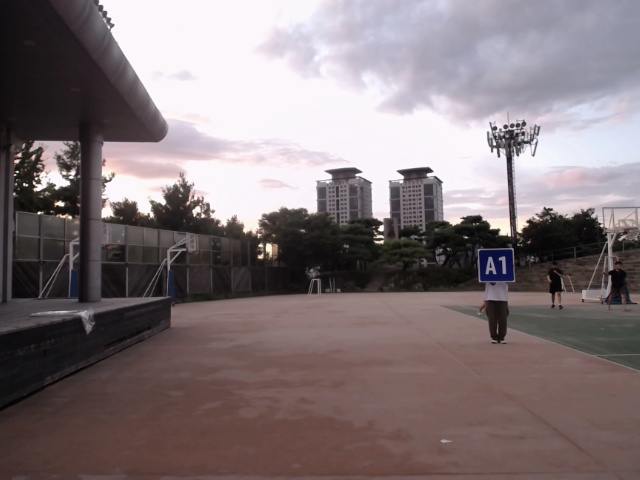delivery_a1: (479, 248, 515, 282)
